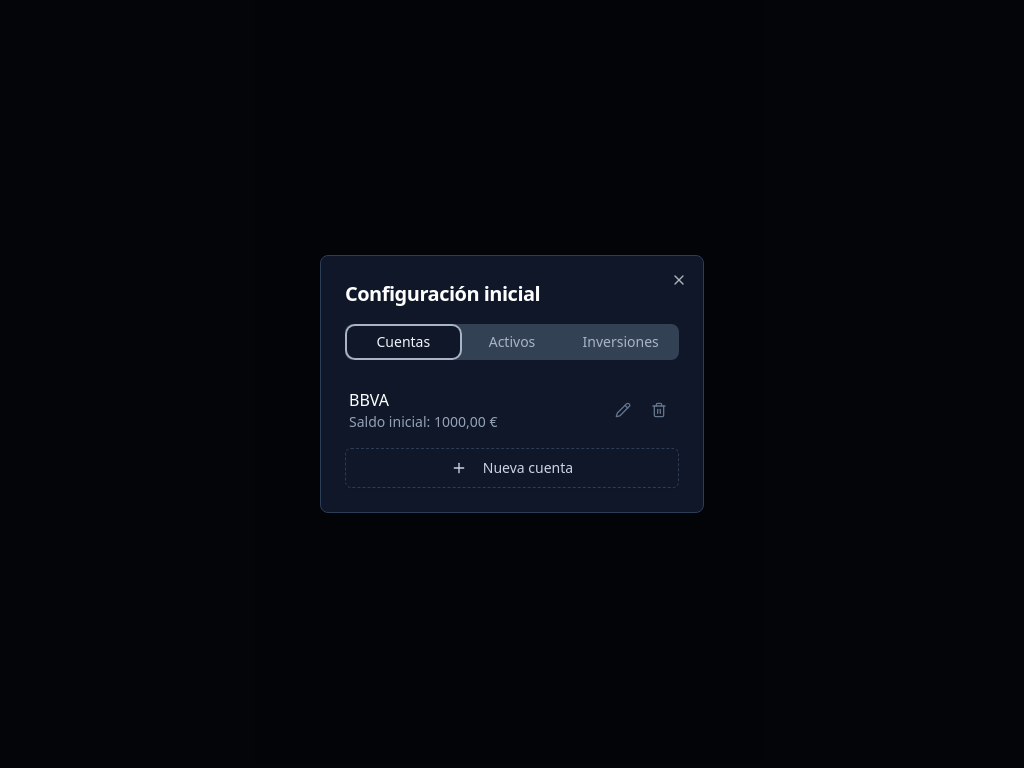
AccountsModal – edit and update › cancels account edit — form disappears and account list returns
The width and height of the screenshot is (1024, 768).
Click the button named "Editar BBVA" at point(623, 410), box 607,394 -> 639,426
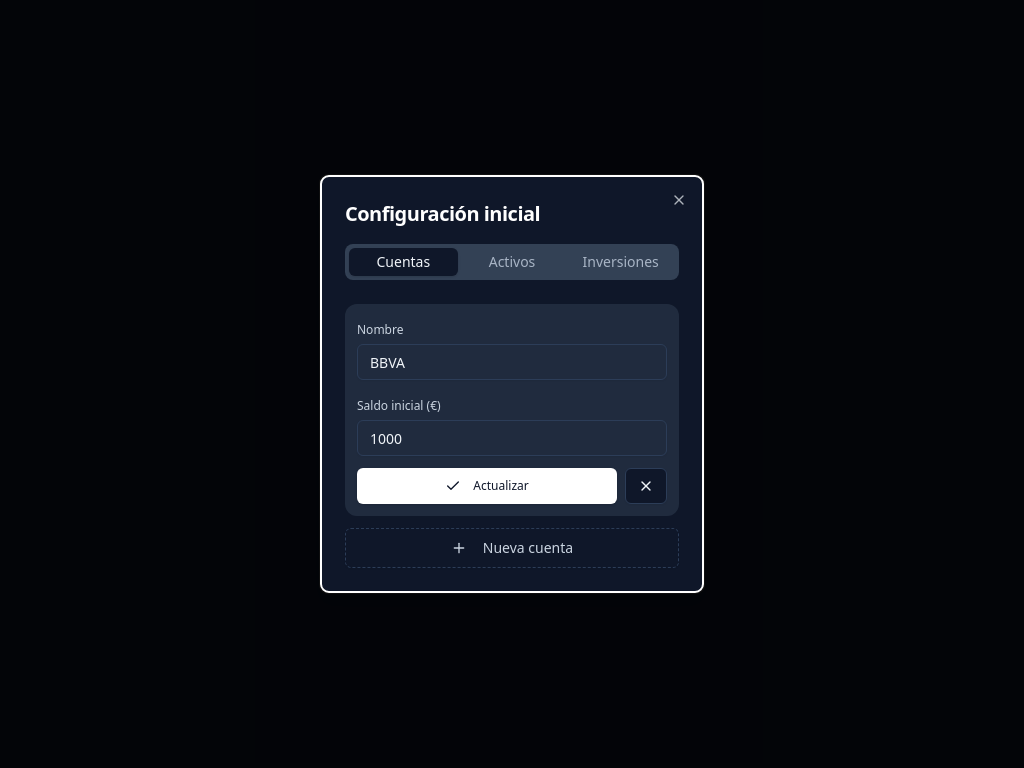
Check: the button "Actualizar" is shown, box 357,468 -> 617,504
Click the button without text below "Saldo inicial (€)" at point(646, 486), box 625,468 -> 667,504
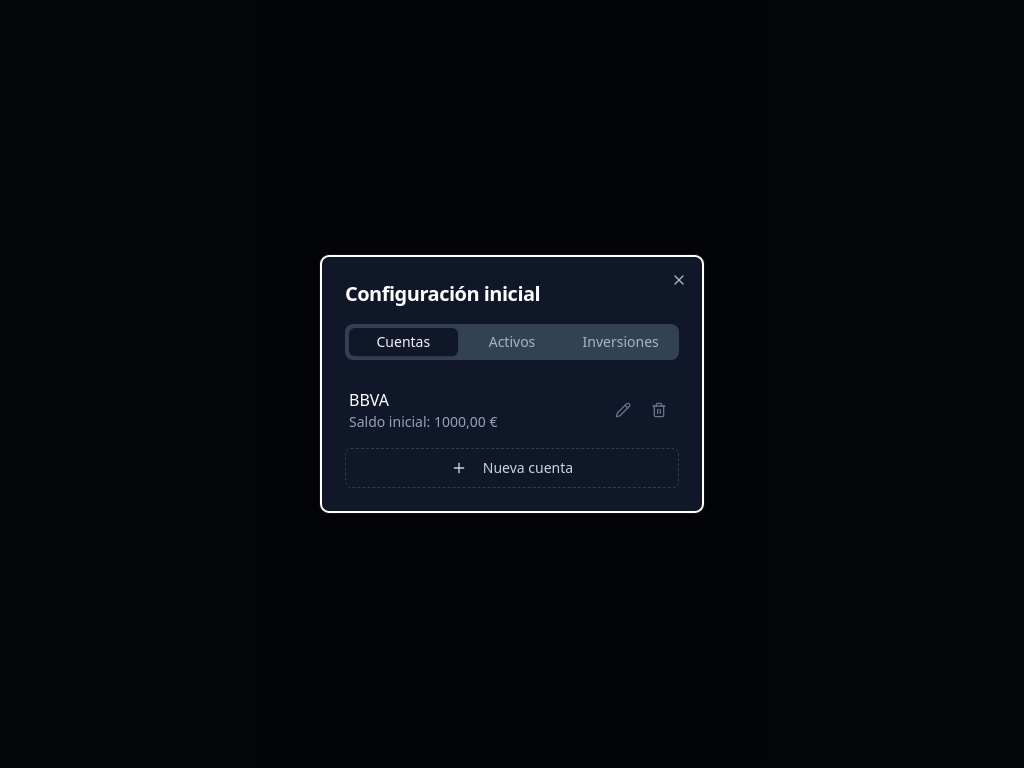
Check: the button "Actualizar" is gone
